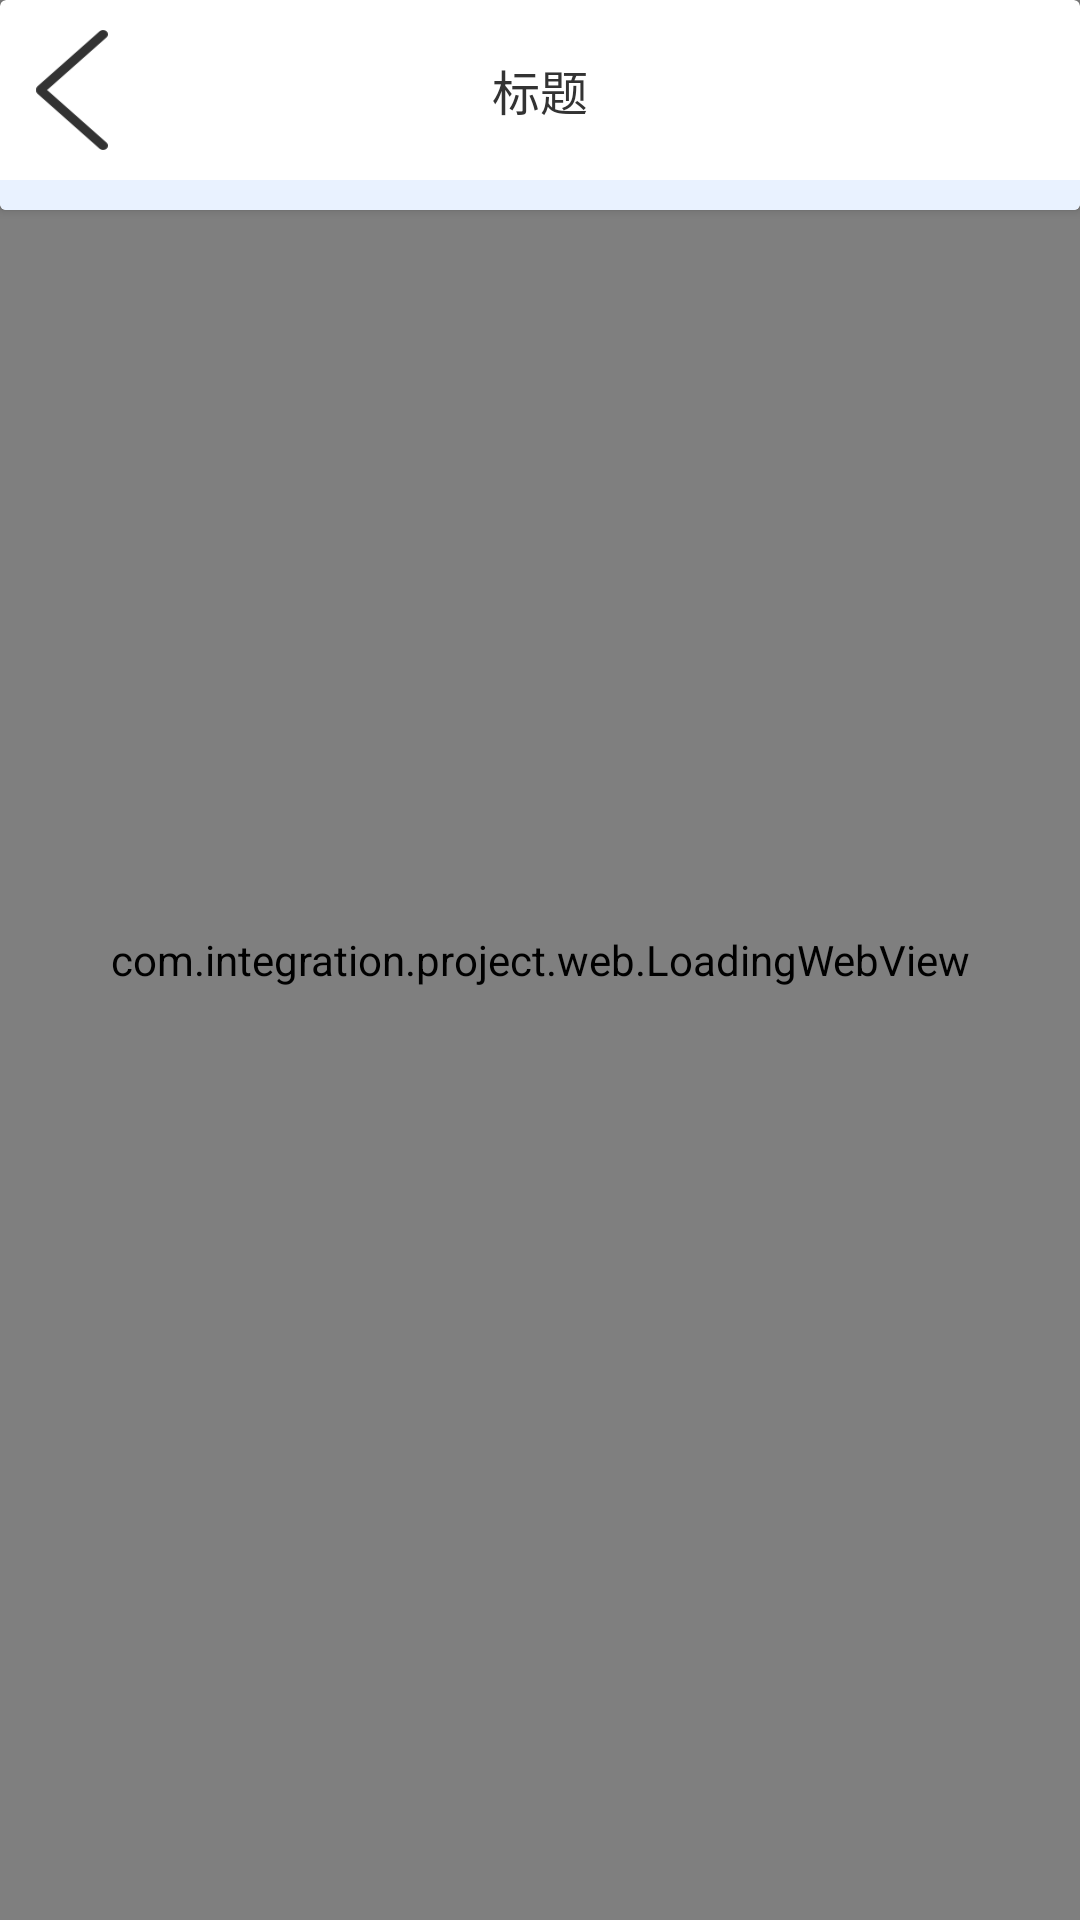

Icons on this 1080 x 1920 Android screen, each with its box as (x1, y1, x2, y2):
return: (36, 30, 108, 150)
